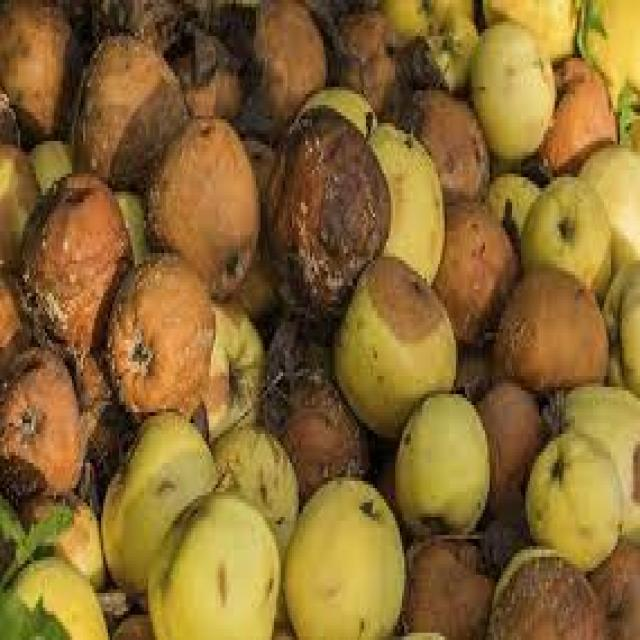organic waste: (260, 102, 386, 326), (96, 408, 214, 604), (330, 249, 454, 434), (142, 112, 258, 293), (278, 470, 404, 636), (103, 246, 216, 416), (22, 177, 130, 351), (146, 492, 276, 636), (70, 25, 186, 177), (487, 260, 604, 398), (541, 376, 638, 539), (263, 362, 368, 502), (364, 112, 447, 286), (391, 391, 487, 535), (0, 340, 85, 499), (523, 427, 620, 564), (238, 0, 328, 134), (467, 22, 555, 159), (209, 416, 296, 553), (433, 195, 519, 333), (521, 170, 609, 300), (487, 542, 602, 636), (0, 0, 81, 130), (402, 528, 494, 636), (406, 83, 489, 195), (85, 0, 237, 61), (478, 376, 539, 524), (0, 554, 108, 636), (539, 54, 615, 170), (375, 0, 476, 87), (202, 289, 263, 427), (575, 141, 638, 271), (328, 7, 397, 112), (168, 32, 247, 123), (31, 495, 106, 586), (0, 488, 74, 575), (480, 0, 580, 58), (579, 0, 638, 98), (70, 358, 124, 459), (586, 532, 638, 636), (387, 29, 442, 126), (292, 80, 377, 141), (263, 304, 328, 379), (478, 474, 526, 575), (602, 253, 638, 387), (0, 141, 36, 260), (0, 575, 70, 636), (485, 166, 537, 246), (236, 228, 278, 318), (236, 127, 283, 188), (368, 441, 400, 524), (25, 130, 72, 184), (114, 181, 146, 253), (0, 445, 43, 495), (0, 260, 25, 344), (456, 332, 485, 398), (613, 76, 638, 145), (108, 600, 150, 636), (0, 87, 18, 148)
